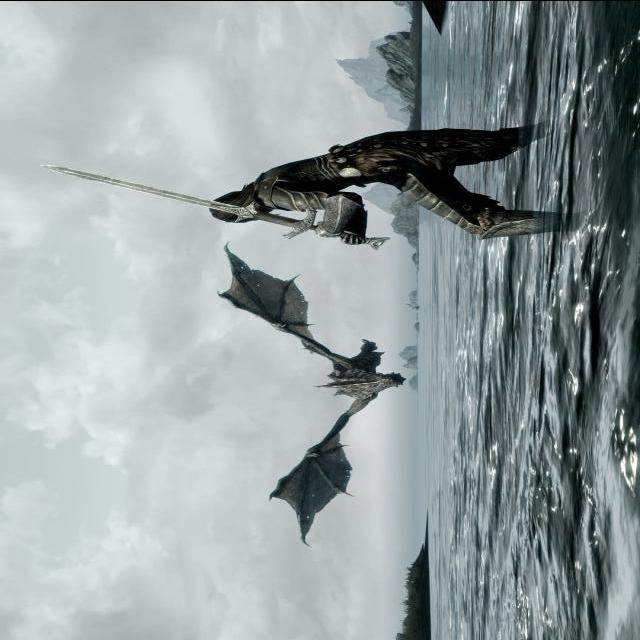sword: (40, 162, 392, 251)
